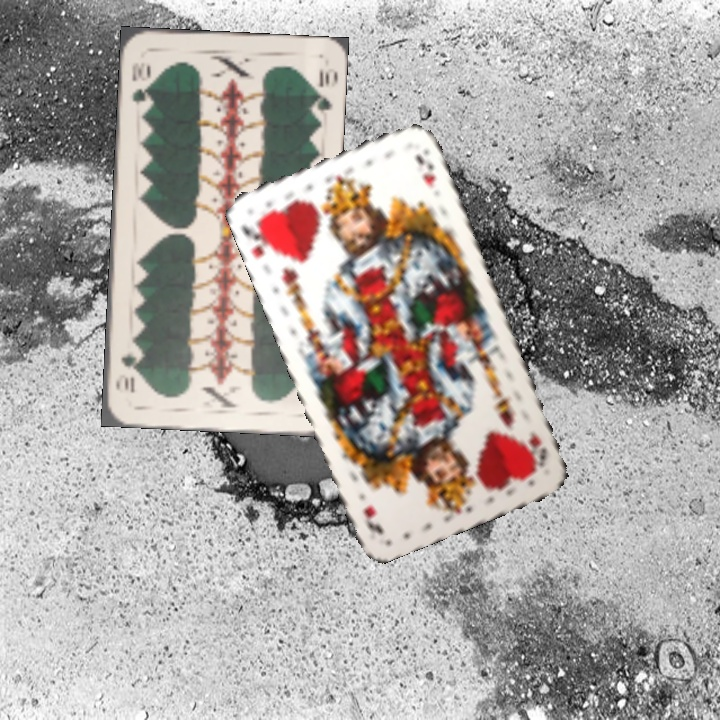G10: (127, 58, 153, 108)
HK: (236, 215, 278, 261), (525, 428, 550, 470)
